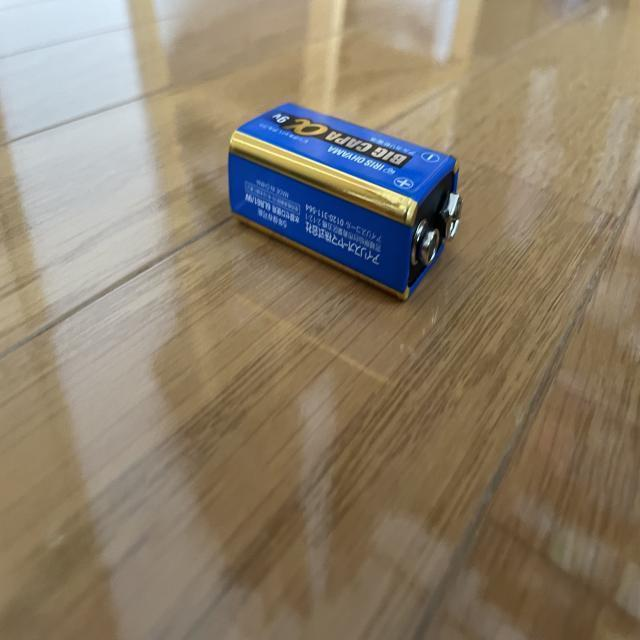9V: (225, 100, 461, 304)
